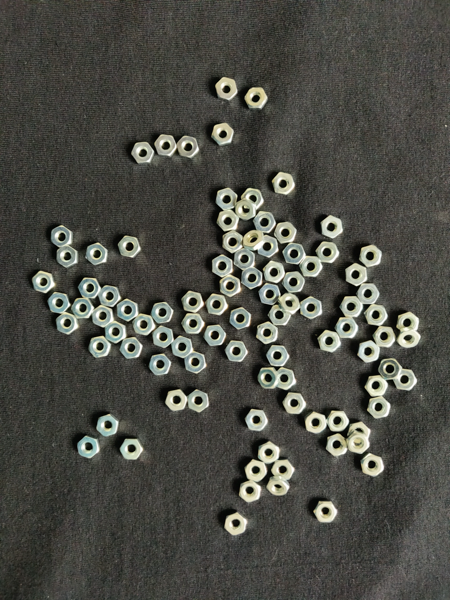nut: (224, 512, 249, 536), (361, 453, 385, 478), (346, 431, 370, 455), (378, 358, 403, 381), (314, 501, 338, 524), (77, 436, 101, 459), (271, 458, 295, 481), (318, 330, 342, 353), (272, 172, 296, 195), (215, 77, 238, 101), (97, 414, 120, 437), (245, 409, 268, 432), (171, 336, 194, 359), (358, 341, 381, 364), (181, 291, 204, 314), (99, 285, 122, 308), (56, 312, 79, 335), (31, 271, 54, 294), (85, 243, 108, 266), (373, 326, 396, 349), (258, 283, 281, 306), (263, 261, 286, 284), (345, 264, 368, 287), (132, 142, 155, 165), (120, 439, 144, 461), (326, 411, 350, 433), (365, 376, 389, 398), (282, 393, 306, 415), (152, 325, 174, 349), (88, 336, 112, 358), (118, 236, 142, 258), (301, 296, 323, 320), (316, 242, 340, 264), (274, 222, 298, 244), (216, 210, 240, 232), (393, 370, 418, 391), (267, 305, 292, 326), (245, 460, 267, 483), (258, 442, 280, 465), (326, 434, 348, 457), (305, 412, 327, 435), (368, 397, 391, 419), (267, 345, 290, 367), (149, 354, 172, 376), (185, 351, 207, 374), (120, 338, 143, 360), (105, 321, 127, 344), (225, 341, 248, 363), (151, 302, 174, 324), (117, 299, 139, 322), (48, 292, 71, 314), (56, 245, 78, 268), (51, 226, 74, 248), (205, 294, 228, 316), (365, 304, 388, 326), (283, 271, 306, 293), (360, 245, 382, 268), (300, 256, 323, 278), (283, 243, 306, 265), (321, 216, 343, 239), (258, 235, 280, 258), (235, 199, 257, 222), (154, 135, 177, 157), (212, 123, 234, 146), (245, 88, 268, 110), (71, 298, 95, 319), (397, 327, 421, 348), (340, 297, 364, 318), (241, 189, 265, 210), (239, 481, 261, 503), (166, 390, 188, 412), (133, 314, 155, 336), (92, 306, 114, 328), (204, 325, 226, 347), (177, 136, 199, 158), (188, 390, 209, 413), (78, 278, 101, 299), (257, 322, 278, 345), (230, 307, 251, 330), (278, 294, 301, 315), (212, 255, 233, 278), (223, 231, 244, 254), (253, 212, 276, 233), (216, 188, 237, 211), (335, 318, 359, 338), (349, 423, 371, 444), (258, 368, 280, 389), (220, 275, 241, 297), (234, 249, 255, 271), (243, 230, 265, 251), (276, 368, 296, 391), (182, 314, 205, 334), (357, 284, 380, 304), (242, 267, 262, 290), (267, 477, 290, 496), (398, 312, 420, 331)
